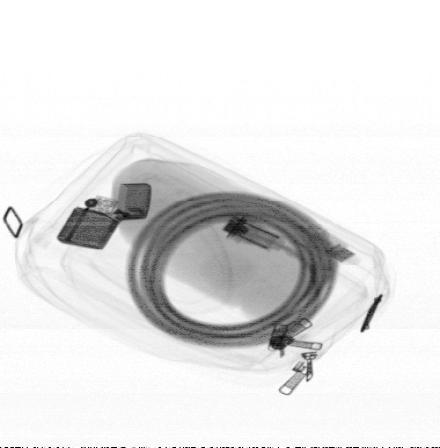Lighter: (56, 182, 152, 250)
